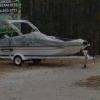Boat: (2, 13, 90, 76)
